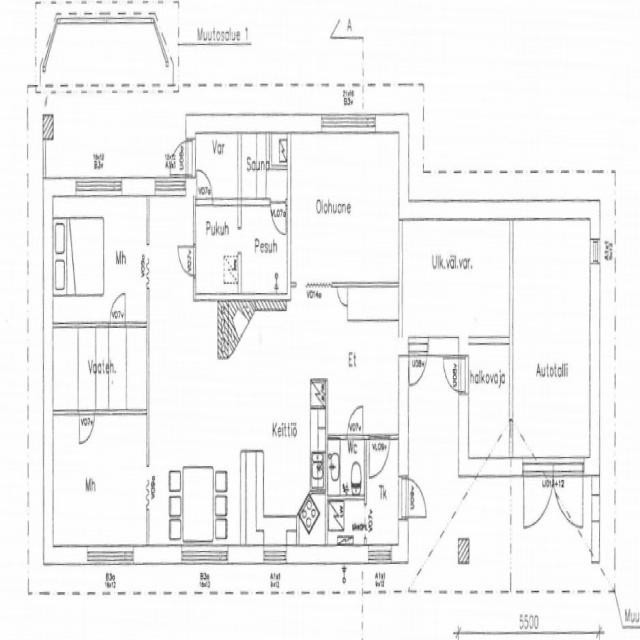door: (288, 126, 401, 286), (367, 436, 391, 482), (168, 138, 192, 180), (406, 475, 428, 520), (443, 356, 465, 394), (346, 401, 366, 441), (175, 242, 196, 279), (108, 288, 128, 326), (269, 199, 288, 236), (78, 410, 96, 448), (196, 166, 214, 203), (335, 283, 349, 311)
window: (68, 173, 125, 200), (318, 114, 376, 138), (84, 541, 136, 567), (368, 546, 393, 566)
zone: (511, 212, 593, 459), (51, 190, 150, 326), (53, 414, 148, 549), (402, 219, 509, 338), (70, 325, 148, 413), (466, 340, 511, 462), (177, 462, 231, 550), (238, 206, 288, 299), (194, 202, 240, 298), (366, 438, 402, 549), (194, 132, 240, 202), (326, 434, 366, 510), (241, 133, 283, 200)
